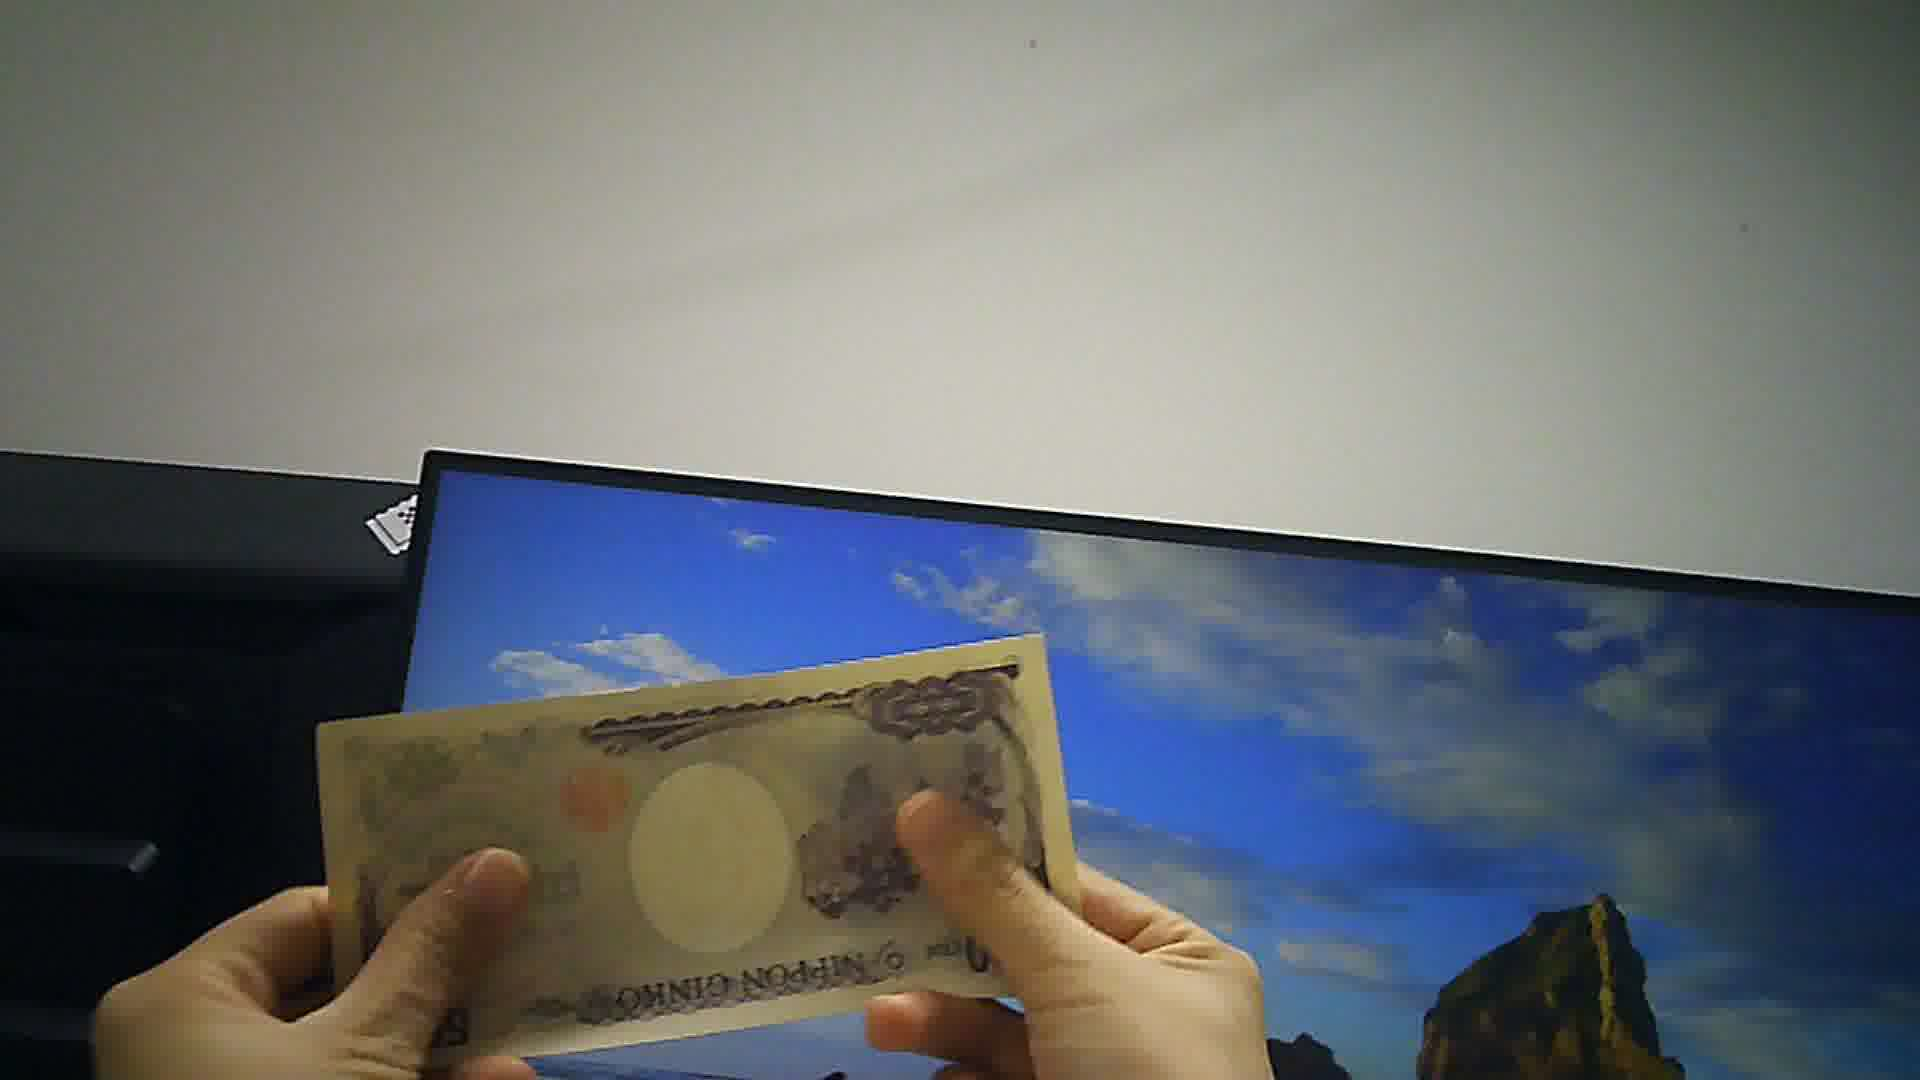5,000 Yen: (301, 618, 1112, 1079)
